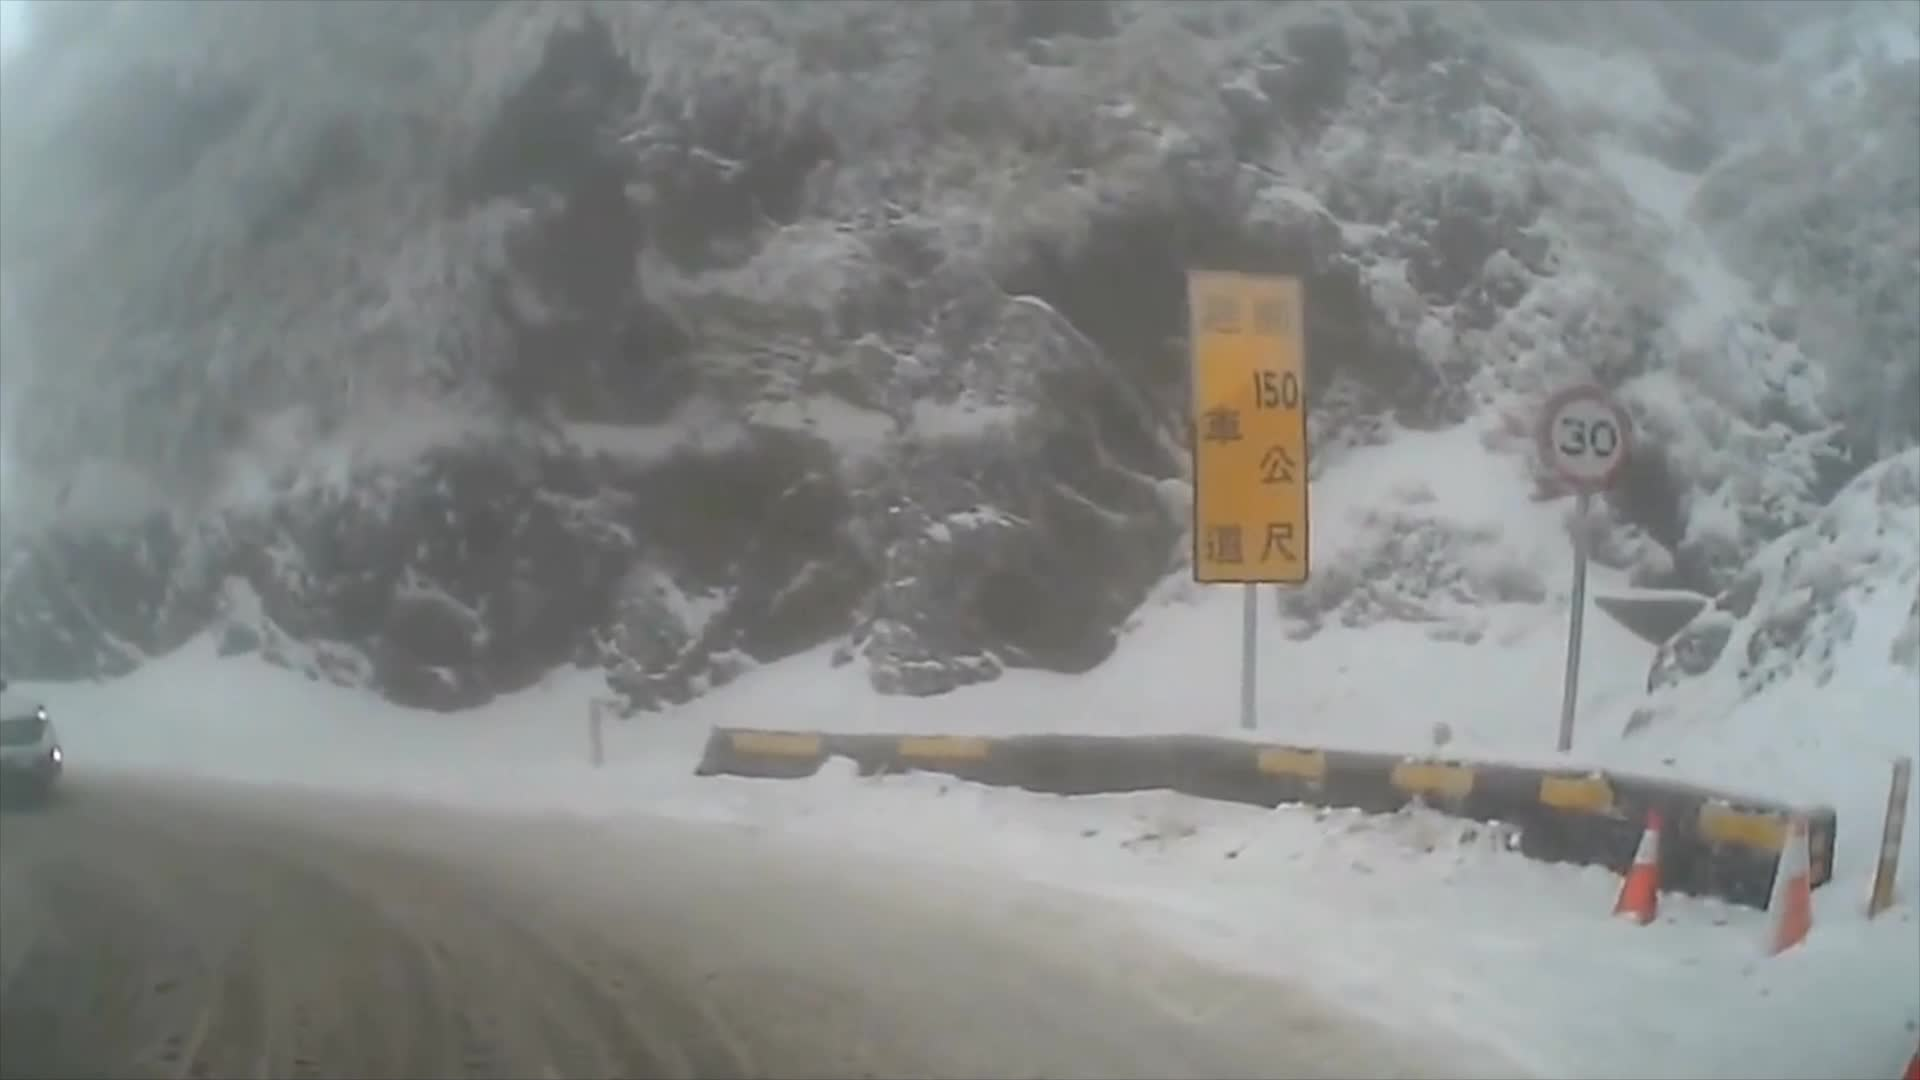vehicle: (0, 678, 58, 804)
